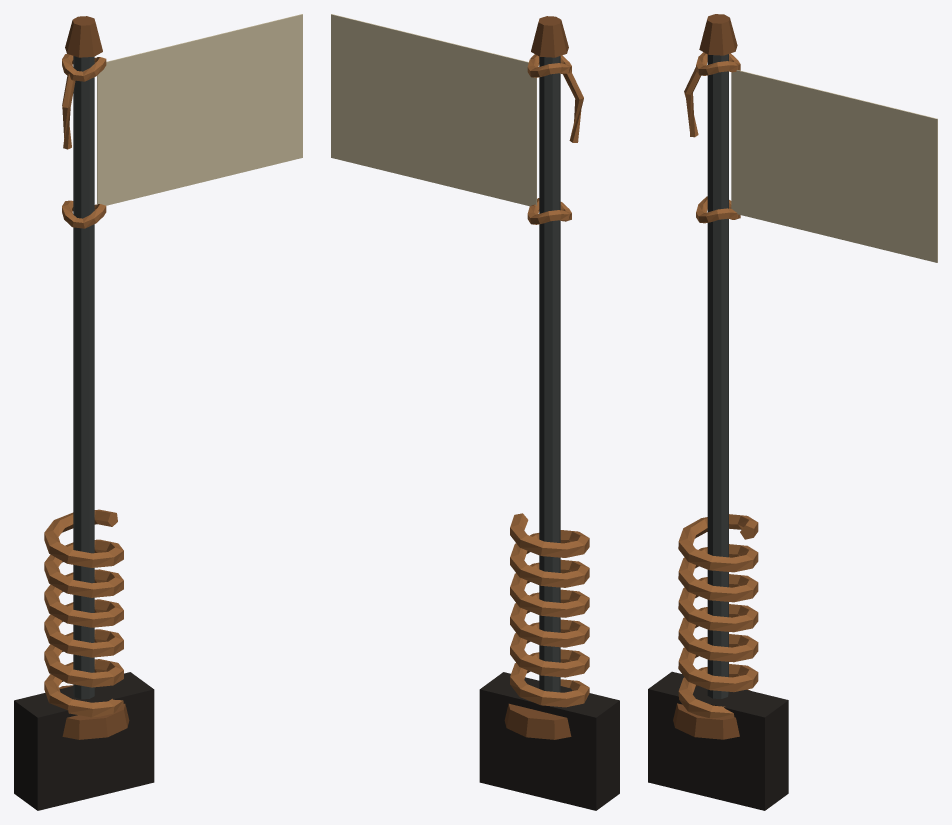
File: keeper_flag.glb
3 renders of one model, left to right at view 1: azimuth 30°, elevation 25°; view 2: azimuth 150°, elevation 25°; view 3: azimuth 330°, elevation 25°, orthographic.
Visible parts, largest first — view 1: FlagPole, FlagCloth; view 2: FlagPole, FlagCloth; view 3: FlagPole, FlagCloth.
Part boxes in pixels (left/top/right/bottom): FlagPole: left=14, top=16, right=154, bottom=810; FlagCloth: left=97, top=14, right=302, bottom=205; FlagPole: left=479, top=16, right=619, bottom=810; FlagCloth: left=331, top=14, right=536, bottom=206; FlagPole: left=648, top=14, right=788, bottom=810; FlagCloth: left=731, top=70, right=937, bottom=262.
Bounding box in the file's own units: 0.808 × 2.14 × 0.24.
